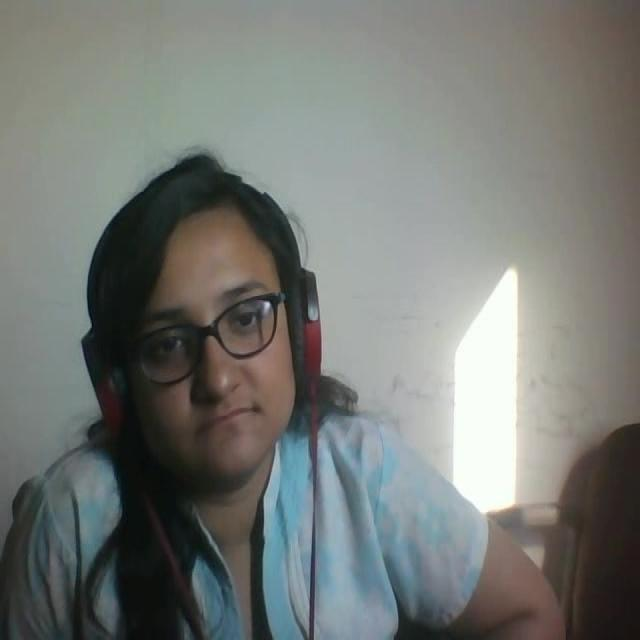Engaged: (62, 119, 384, 535)
